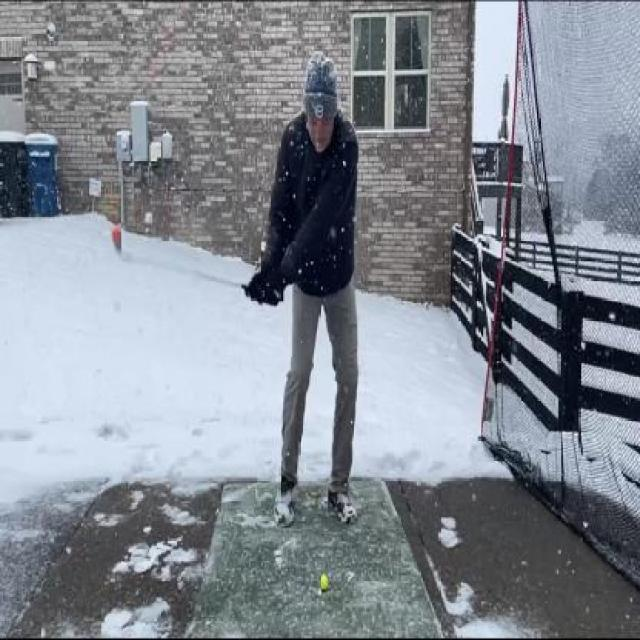club head: (108, 223, 129, 260)
